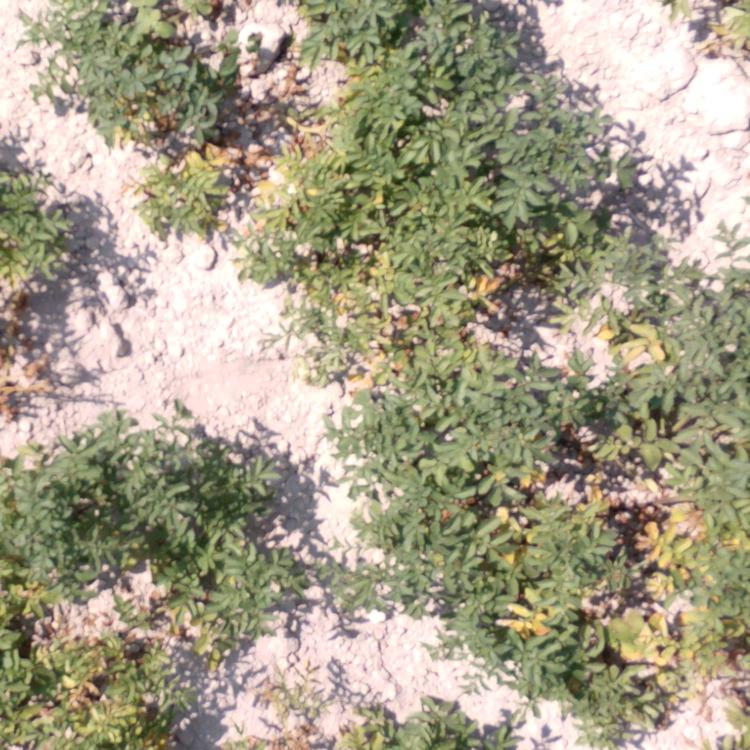healthy: (1, 431, 257, 577), (362, 87, 631, 213), (66, 2, 205, 117), (327, 1, 529, 79), (366, 398, 441, 599), (344, 702, 510, 746)
stressed: (454, 504, 730, 716), (277, 227, 562, 387), (1, 590, 176, 748), (469, 397, 724, 492), (133, 125, 343, 215), (588, 252, 723, 378), (1, 156, 52, 350), (662, 3, 744, 54)
